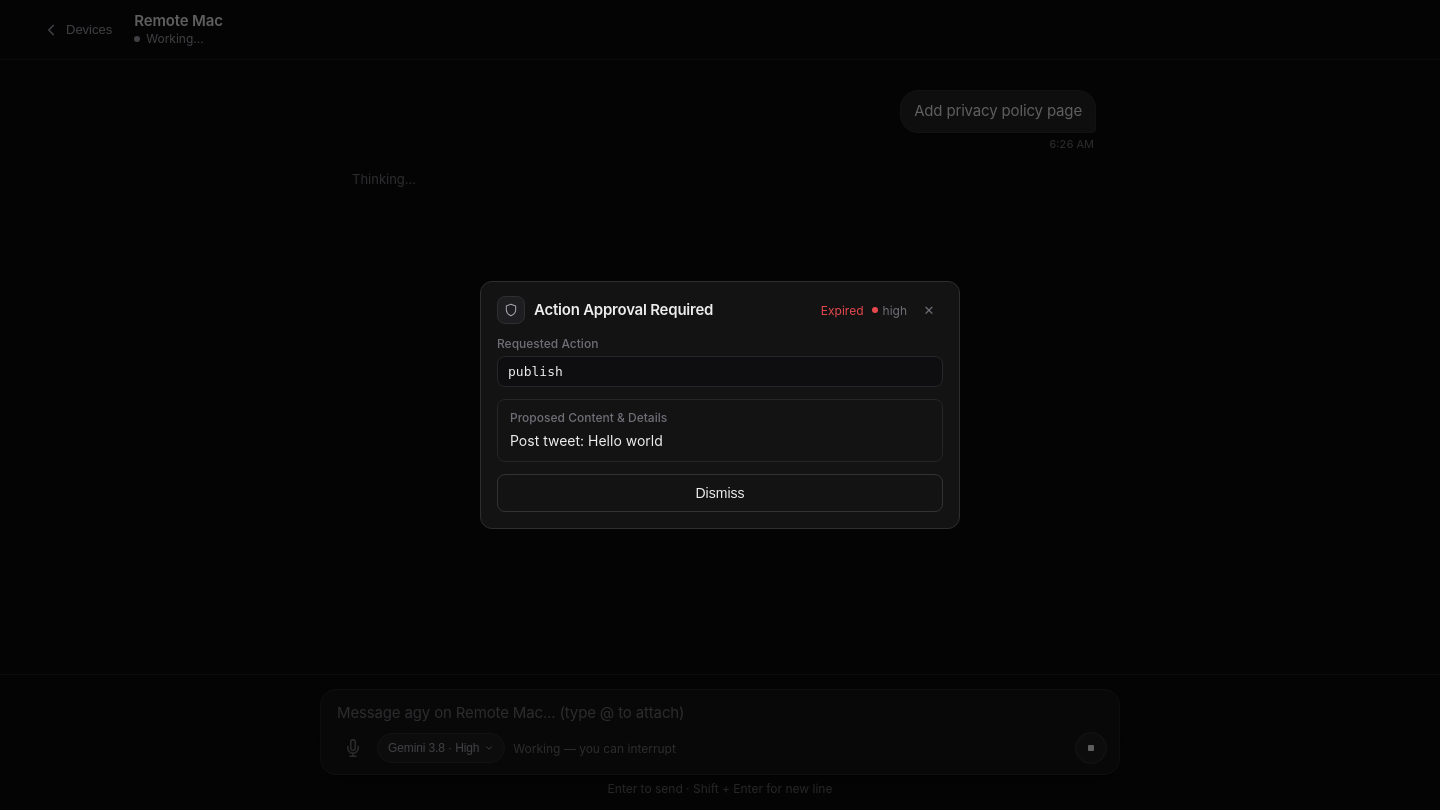
Test: Web App Workflow › disables buttons when approval is already expired
The image size is (1440, 810).
Click the button with test id "dismiss-approval-btn": (720, 493) [497, 474, 943, 512]
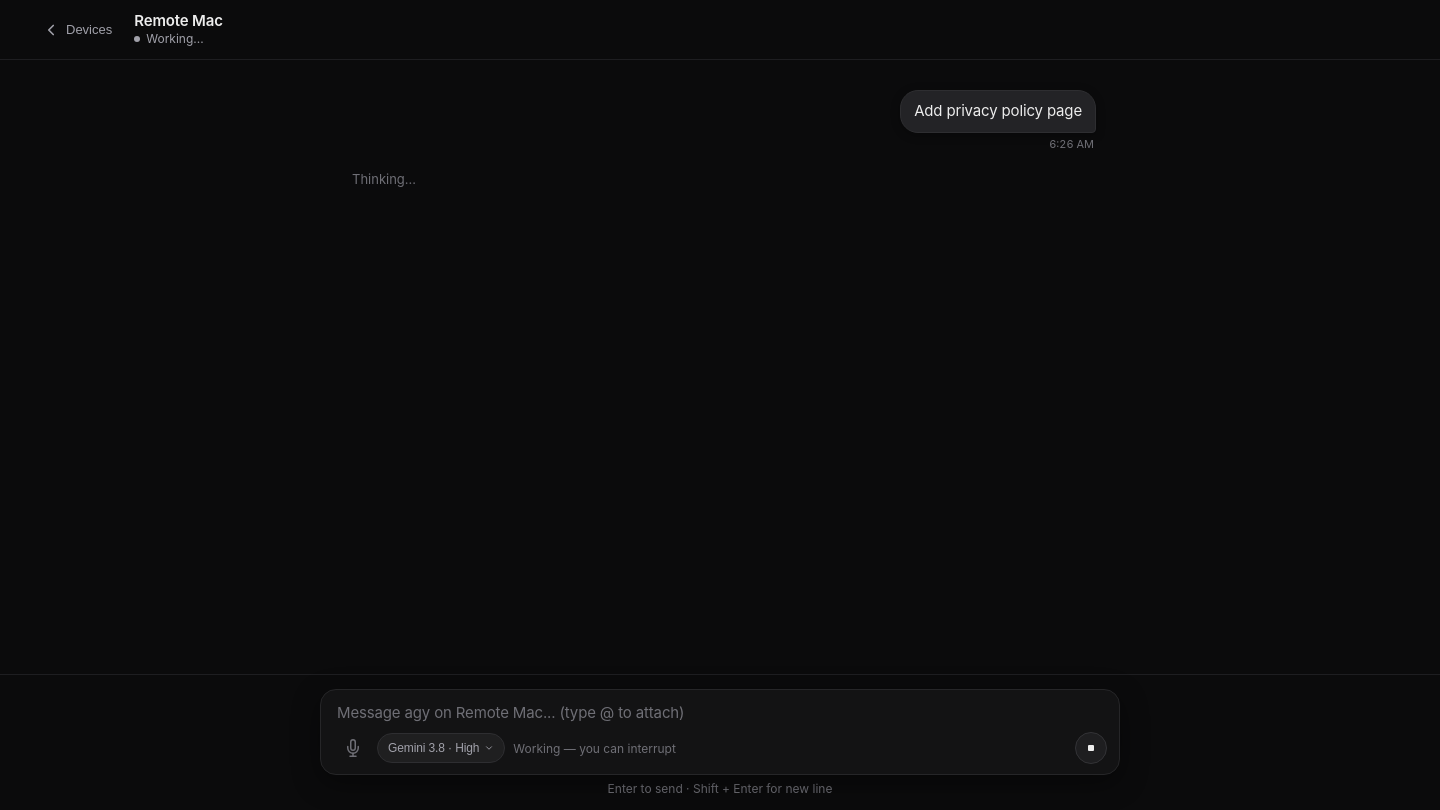
Check: the dialog with test id "approval-sheet" is gone
